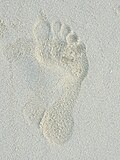human_foot_print: (33, 14, 87, 143), (2, 37, 44, 126)
